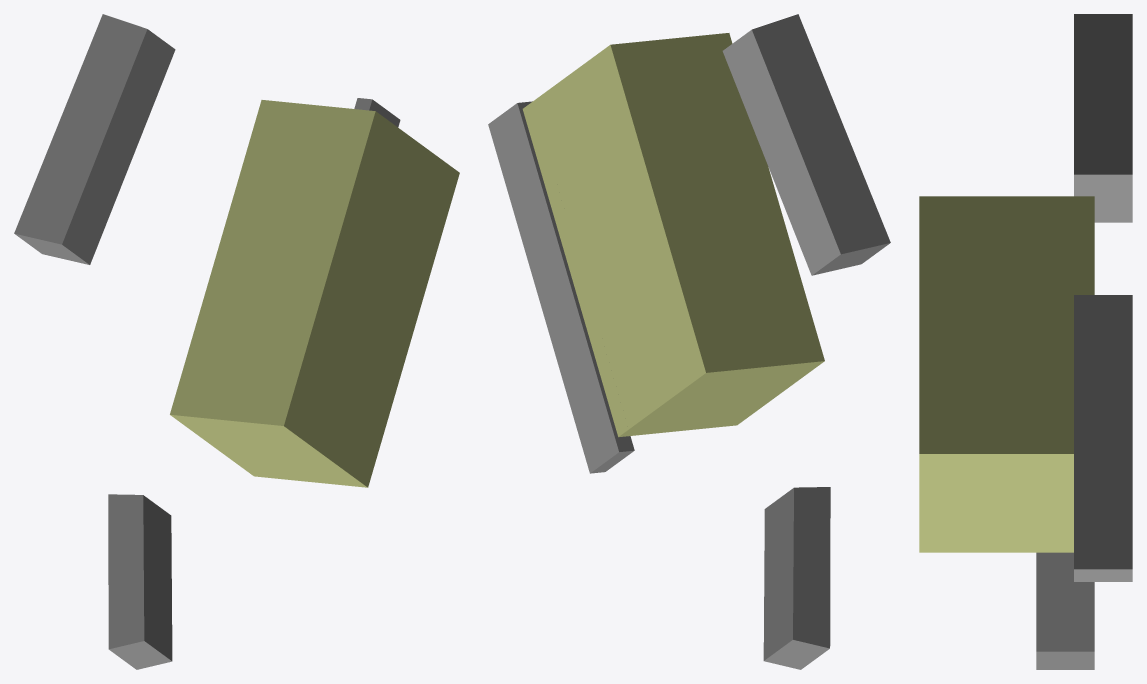
3 renders of one model, left to right at view 1: azimuth 30°, elevation 25°; view 2: azimuth 150°, elevation 25°; view 3: azimuth 270°, elevation 25°, orthographic. The views are drawn at different scales.
Visible parts, largest first — view 1: 0_2_1_3_3_3_0_1_1; view 2: 0_2_1_3_3_3_0_1_1; view 3: 0_2_1_3_3_3_0_1_1.
Boxes of the visible parts, x1=… form: 0_2_1_3_3_3_0_1_1: x1=14, y1=14, x2=459, y2=669; 0_2_1_3_3_3_0_1_1: x1=488, y1=14, x2=890, y2=669; 0_2_1_3_3_3_0_1_1: x1=919, y1=14, x2=1132, y2=669.
Bounding box in the file's own units: 22.1 × 36.5 × 10.94.
